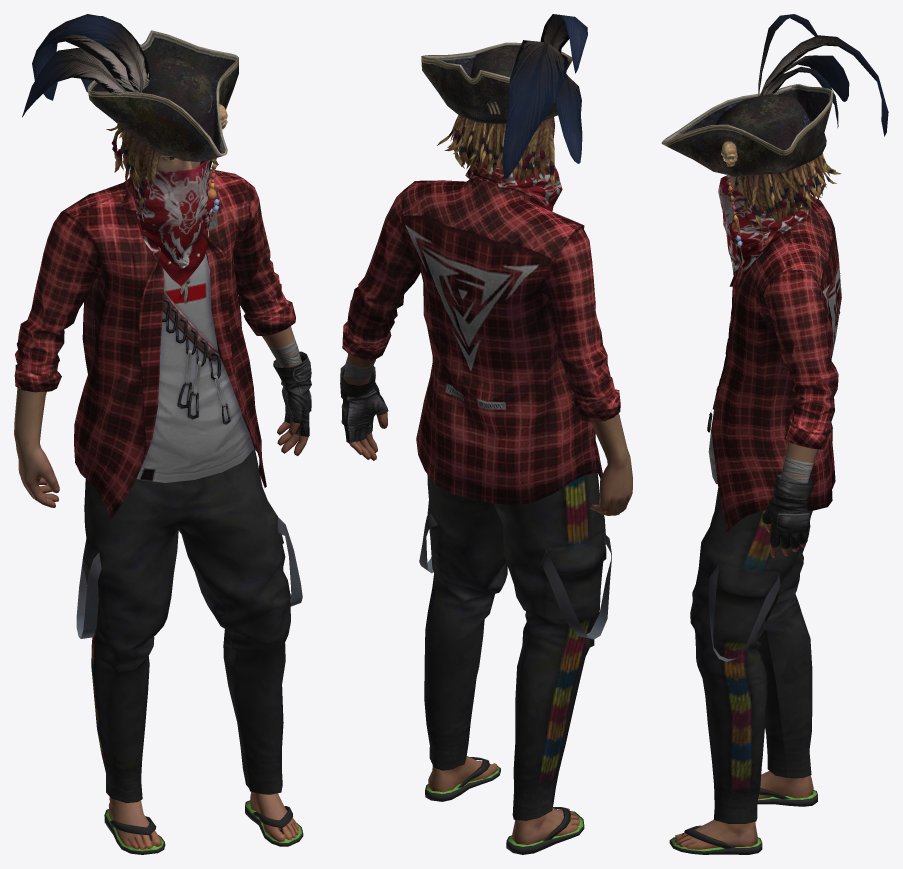
Rendered from character.glb.
The picture shows the model from 3 angles, left to right: view 1: azimuth 30°, elevation 25°; view 2: azimuth 150°, elevation 25°; view 3: azimuth 270°, elevation 25°; orthographic projection. The views are drawn at different scales.
Visible parts, largest first — view 1: Mesh_0573.rip, Mesh_0022_rip.004, Mesh_1286.rip, Mesh_1338.rip, Mesh_0567.rip, Mesh_0569.rip, Mesh_1288.rip, Mesh_0569.rip.002, Mesh_0569.rip.001, Mesh_0566.rip.002, Mesh_0566.rip.001; view 2: Mesh_0573.rip, Mesh_0022_rip.004, Mesh_1338.rip, Mesh_1286.rip, Mesh_1288.rip, Mesh_0569.rip, Mesh_0567.rip, Mesh_0569.rip.002, Mesh_0569.rip.001, Mesh_0566.rip.002, Mesh_0566.rip.001; view 3: Mesh_0573.rip, Mesh_0022_rip.004, Mesh_1286.rip, Mesh_1338.rip, Mesh_1288.rip, Mesh_0567.rip, Mesh_0569.rip.001, Mesh_0566.rip.001, Mesh_0569.rip.002, Mesh_0569.rip, Mesh_0566.rip.002.
Boxes of the visible parts, x1=… form: Mesh_0573.rip: x1=14, y1=169, x2=311, y2=518; Mesh_0022_rip.004: x1=76, y1=449, x2=302, y2=803; Mesh_1286.rip: x1=87, y1=30, x2=238, y2=230; Mesh_1338.rip: x1=22, y1=14, x2=150, y2=117; Mesh_0567.rip: x1=129, y1=156, x2=214, y2=286; Mesh_0569.rip: x1=14, y1=138, x2=308, y2=507; Mesh_1288.rip: x1=106, y1=124, x2=218, y2=213; Mesh_0569.rip.002: x1=108, y1=797, x2=161, y2=849; Mesh_0569.rip.001: x1=250, y1=792, x2=298, y2=841; Mesh_0566.rip.002: x1=104, y1=809, x2=165, y2=854; Mesh_0566.rip.001: x1=245, y1=800, x2=303, y2=846; Mesh_0573.rip: x1=340, y1=168, x2=620, y2=504; Mesh_0022_rip.004: x1=419, y1=473, x2=611, y2=820; Mesh_1338.rip: x1=502, y1=14, x2=587, y2=178; Mesh_1286.rip: x1=421, y1=42, x2=572, y2=123; Mesh_1288.rip: x1=437, y1=115, x2=554, y2=192; Mesh_0569.rip: x1=343, y1=121, x2=632, y2=515; Mesh_0567.rip: x1=465, y1=154, x2=562, y2=211; Mesh_0569.rip.002: x1=512, y1=808, x2=580, y2=844; Mesh_0569.rip.001: x1=428, y1=756, x2=497, y2=792; Mesh_0566.rip.002: x1=506, y1=807, x2=584, y2=854; Mesh_0566.rip.001: x1=425, y1=757, x2=500, y2=801; Mesh_0573.rip: x1=707, y1=195, x2=841, y2=549; Mesh_0022_rip.004: x1=690, y1=488, x2=812, y2=823; Mesh_1286.rip: x1=661, y1=84, x2=833, y2=264; Mesh_1338.rip: x1=758, y1=14, x2=888, y2=136; Mesh_1288.rip: x1=727, y1=153, x2=841, y2=229; Mesh_0567.rip: x1=718, y1=176, x2=810, y2=286; Mesh_0569.rip.001: x1=674, y1=820, x2=757, y2=849; Mesh_0566.rip.001: x1=669, y1=825, x2=762, y2=854; Mesh_0569.rip.002: x1=758, y1=771, x2=813, y2=799; Mesh_0569.rip: x1=726, y1=163, x2=818, y2=558; Mesh_0566.rip.002: x1=757, y1=788, x2=817, y2=806.
Bounding box in the file's own units: 2.86 × 7.86 × 2.1.
11 materials, 11 textured.
